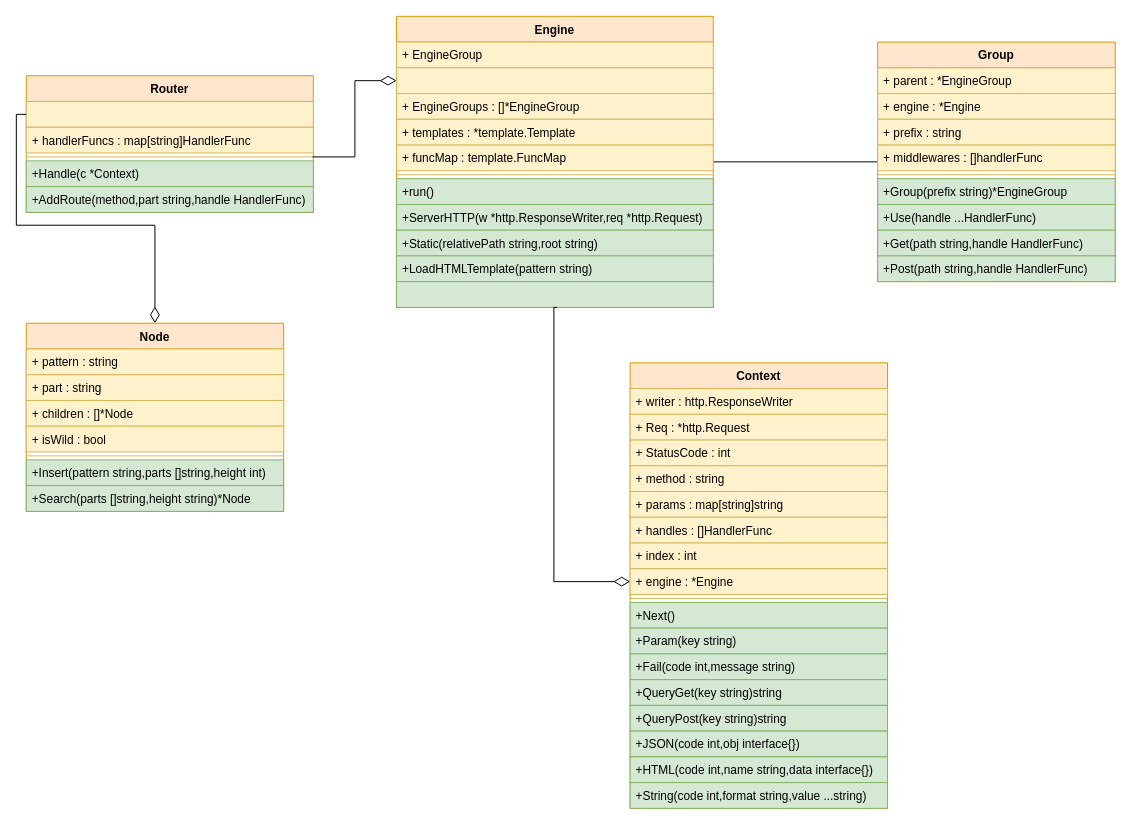
This 1132x825 diagram has some shape labels left out. The shapes that lost their labels are listed below. From the top down, each one's centre as x and y in pixels, then its label:
At [554,80]: "+ router : *Router".
At [169,113]: "+ roots : map[string]*Node".
At [554,294]: "+SetFuncMap(funcMap template.FuncMap)".
